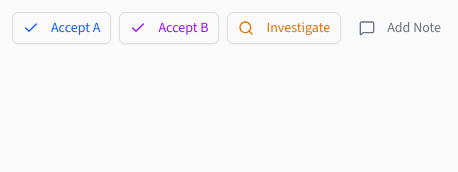
Test: ContradictionActions › Accept B Action (AC5) › shows loading state during Accept B action
Click the button with aria-label "accept finding b" at (169, 28), box [119,12,219,44]
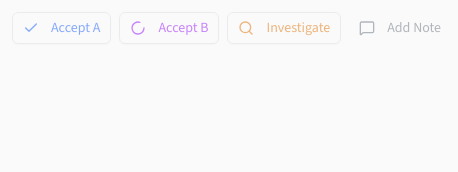
Expected: the button with aria-label "accept finding b" is disabled, [119,12,219,44]
